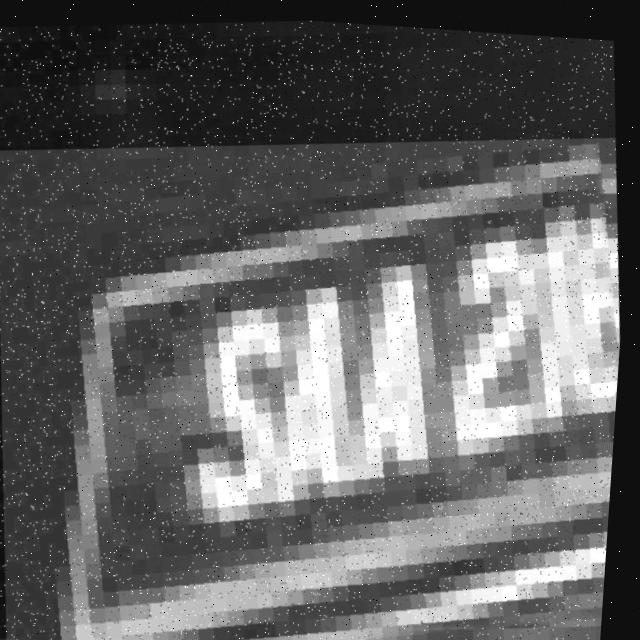LicensePlate: (0, 96, 635, 640)
